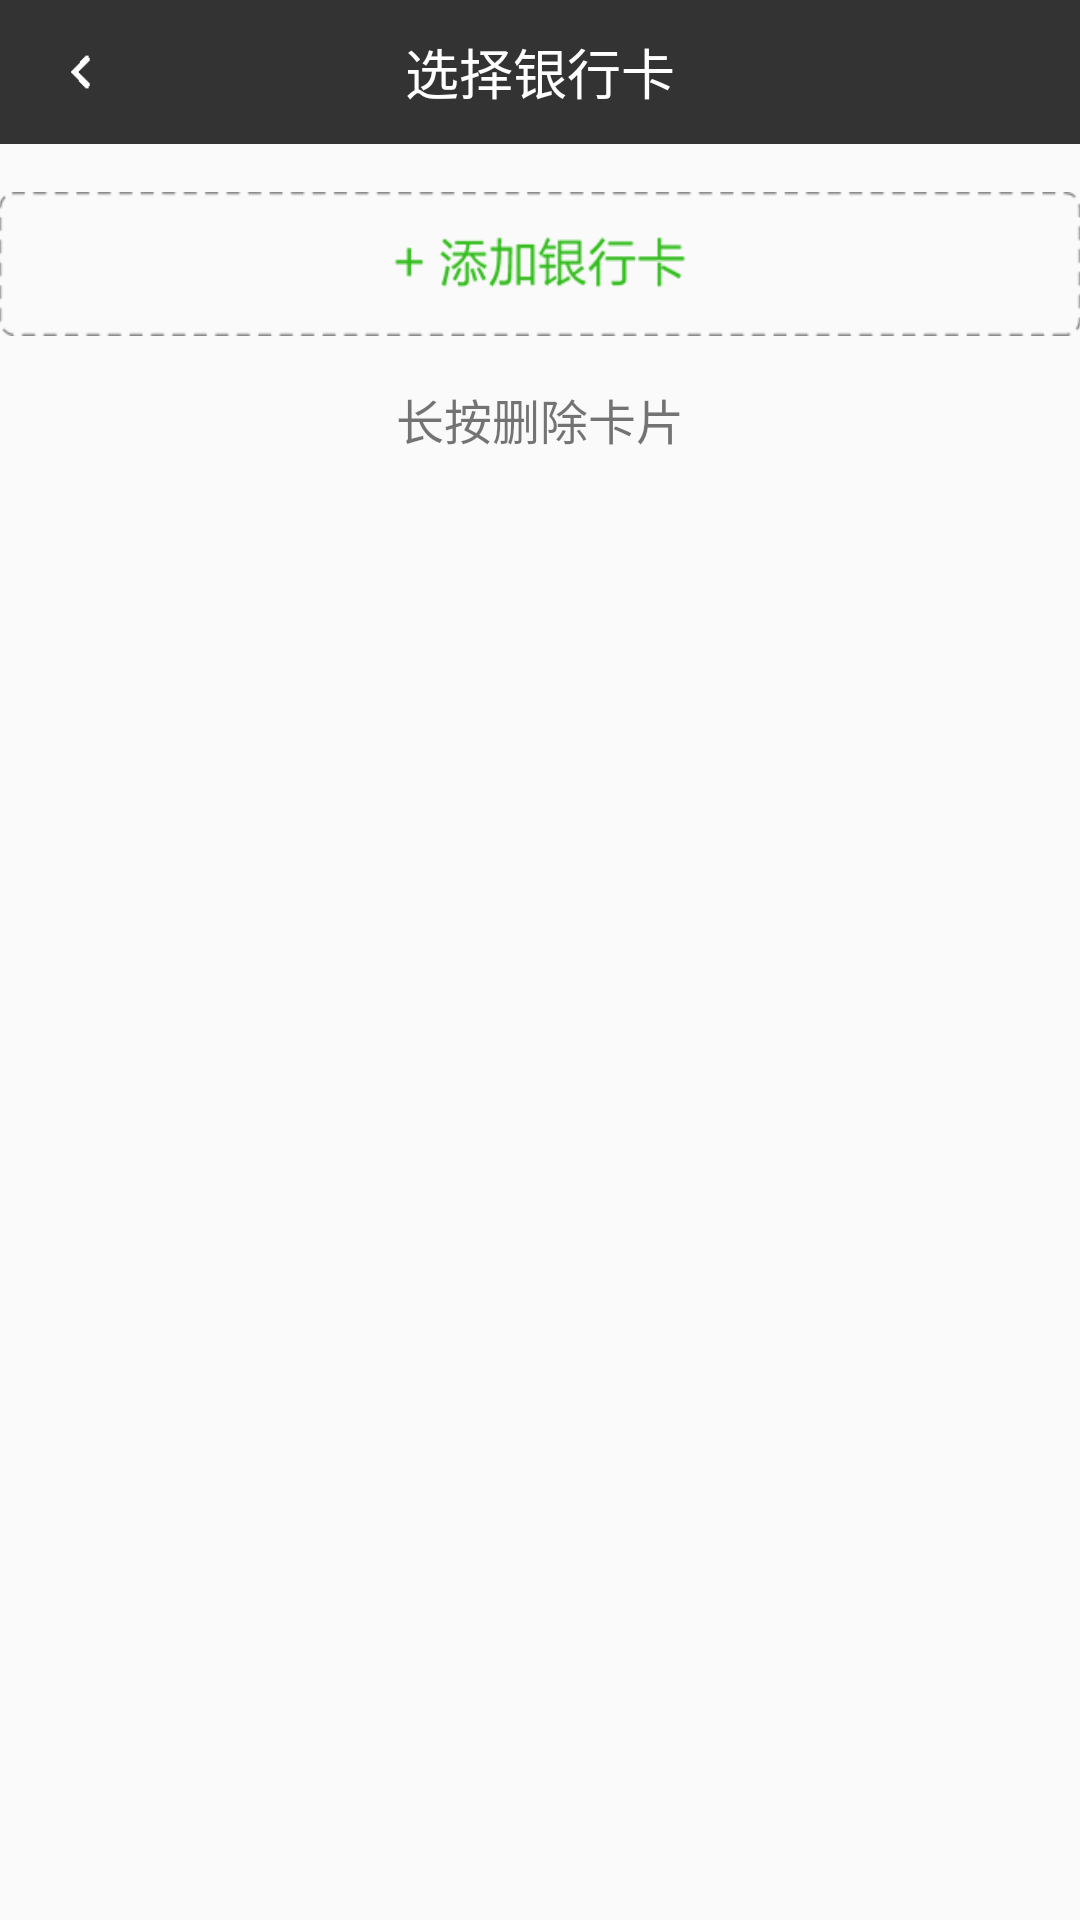

Named icons in this screenshot (1080 x 1920) and their bounding boxes, (x1=x1, y1=y1, x2=x2, y2=y2):
lepay back: (x1=71, y1=55, x2=90, y2=89)
